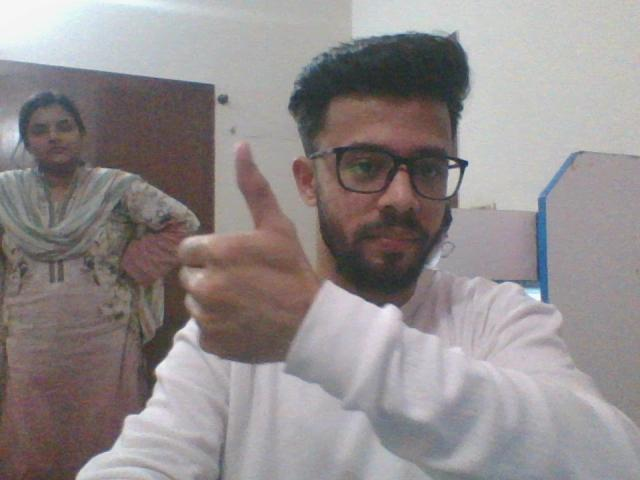thumbs-up: (183, 143, 315, 369)
